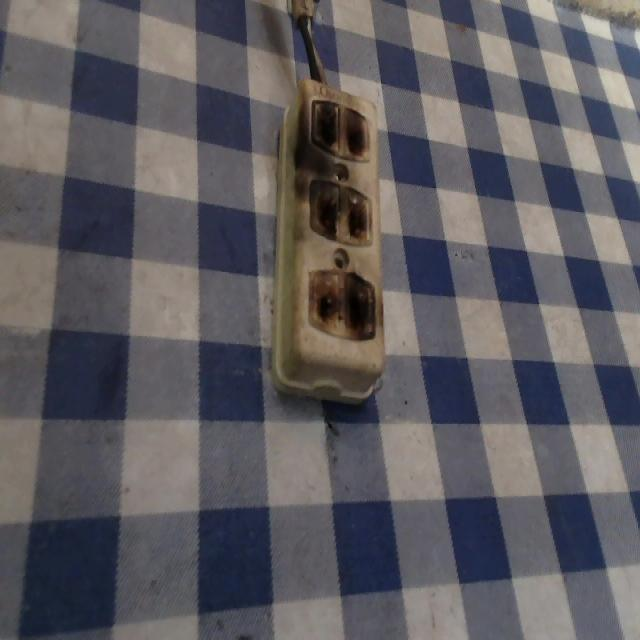-: (304, 268, 376, 341), (306, 173, 374, 248), (307, 95, 371, 164)
